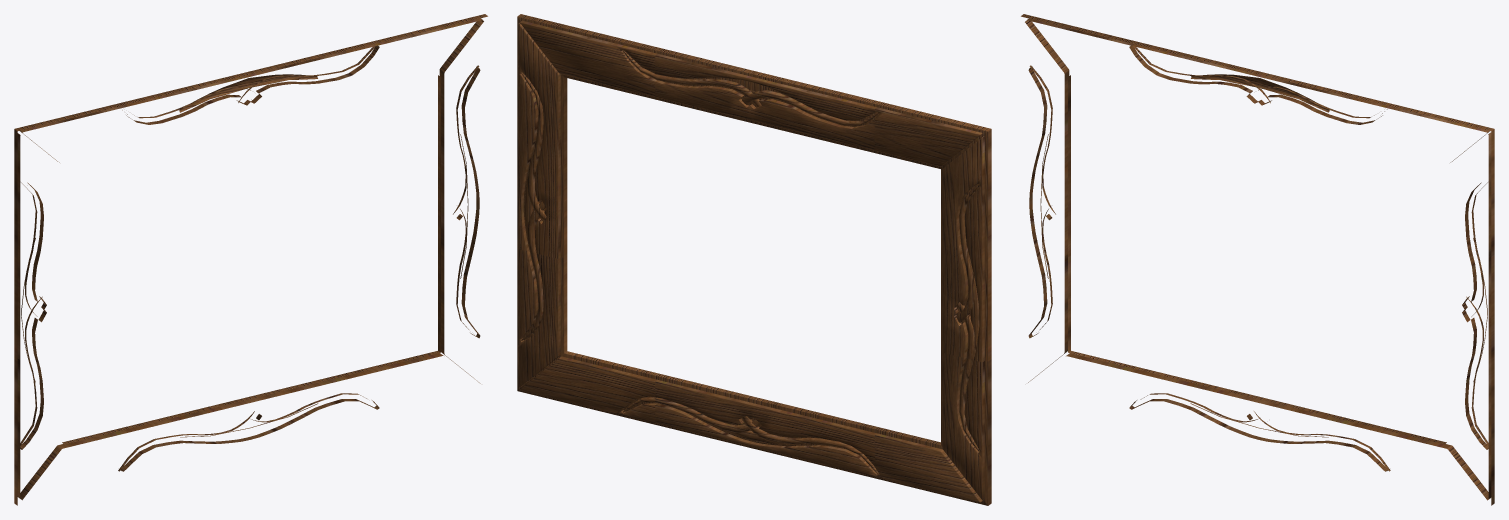
The model's file is frame.glb.
3 renders of one model, left to right at view 1: azimuth 30°, elevation 25°; view 2: azimuth 150°, elevation 25°; view 3: azimuth 330°, elevation 25°, orthographic.
Parts seen in each view (by area): view 1: Object2389; view 2: Object2389; view 3: Object2389.
Part boxes in pixels (left/top/right/bottom): Object2389: left=14, top=14, right=487, bottom=505; Object2389: left=517, top=14, right=991, bottom=505; Object2389: left=1021, top=14, right=1494, bottom=505.
Bounding box in the file's own units: 530 × 403 × 11.46.
1 material, 1 textured.
